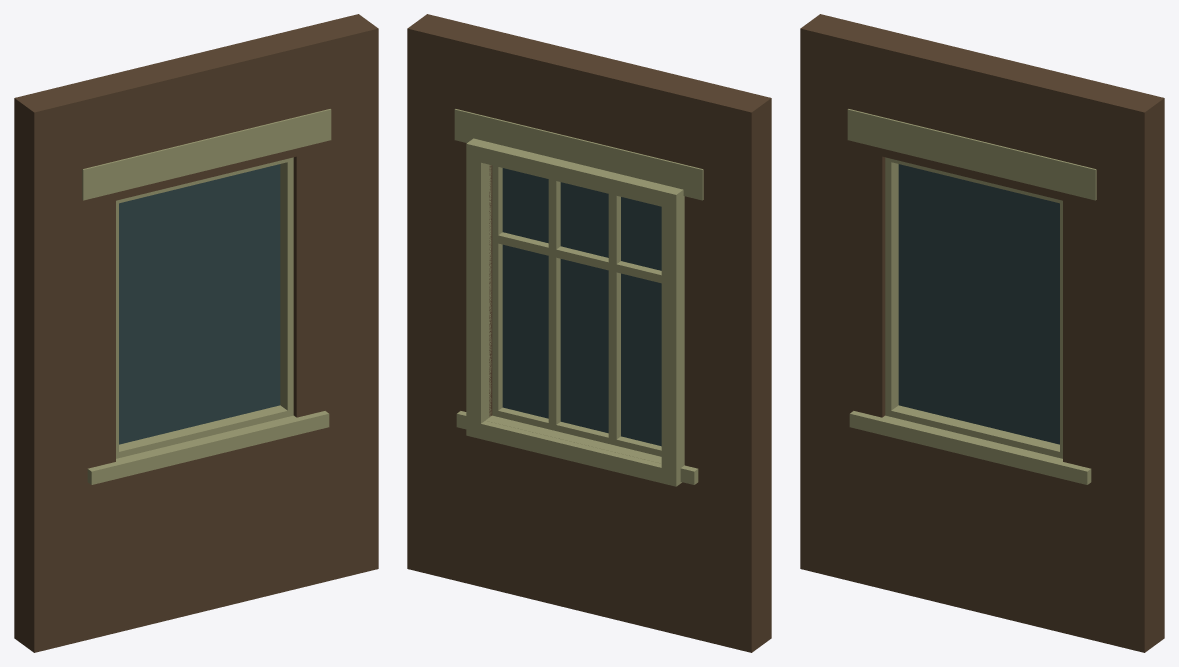
Rendered from gn_window_bay_2m.glb.
The picture shows the model from 3 angles, left to right: view 1: azimuth 30°, elevation 25°; view 2: azimuth 150°, elevation 25°; view 3: azimuth 330°, elevation 25°; orthographic projection.
Parts seen in each view (by area): view 1: GnWindowBay; view 2: GnWindowBay; view 3: GnWindowBay.
Part boxes in pixels (x1=…): GnWindowBay: x1=14, y1=14, x2=378, y2=652; GnWindowBay: x1=407, y1=14, x2=771, y2=652; GnWindowBay: x1=800, y1=14, x2=1164, y2=652.
Size of the model in its own units: 2 by 3 by 0.323.
